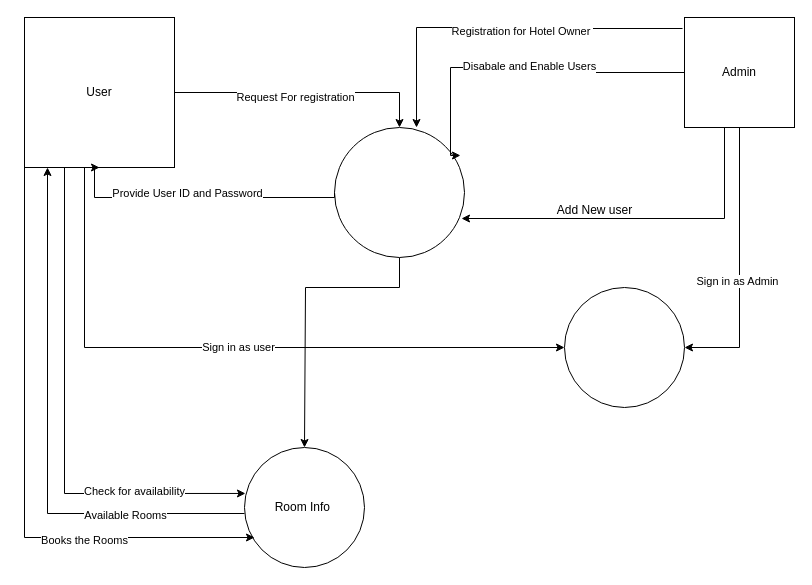
This 812x585 diagram has some shape labels left out. The centre of each missing label's shape, as x and y in pixels:
1.0 Registration: the point at 399,192
Login: the point at 624,347
